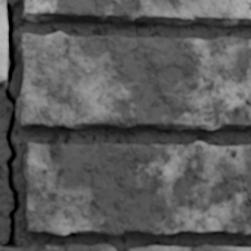brick: (16, 32, 250, 130), (24, 142, 250, 235), (20, 0, 250, 26), (0, 244, 115, 250), (125, 245, 250, 250), (0, 0, 7, 82)
crack: (0, 2, 20, 248)
